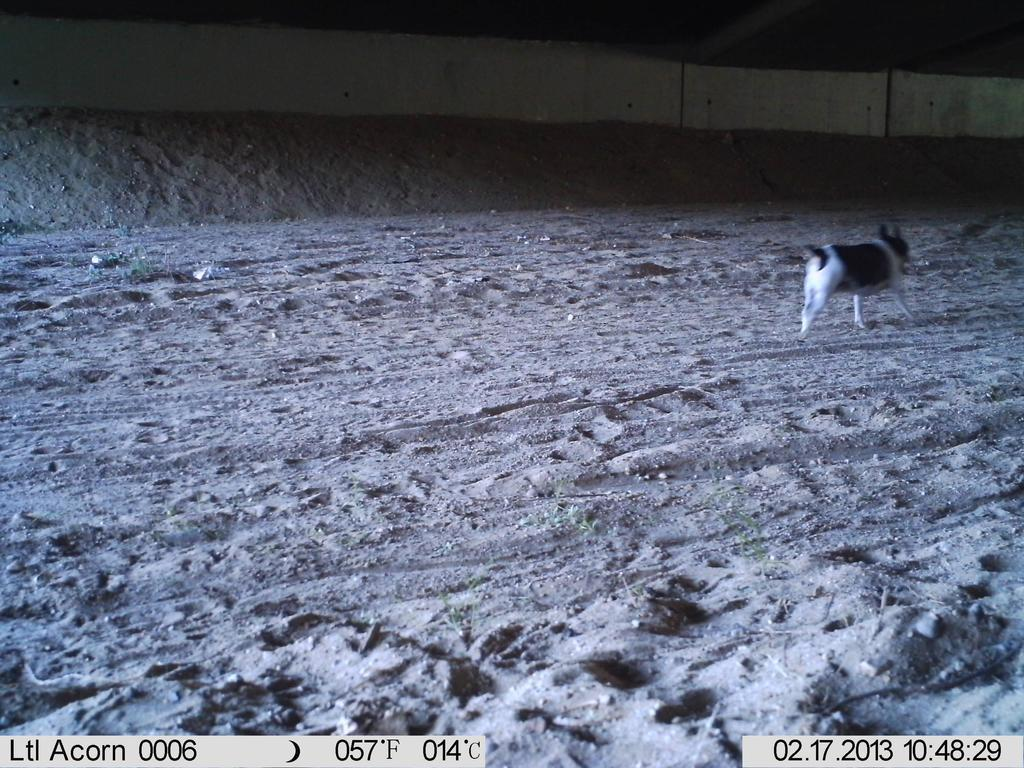dog: (791, 215, 925, 345)
